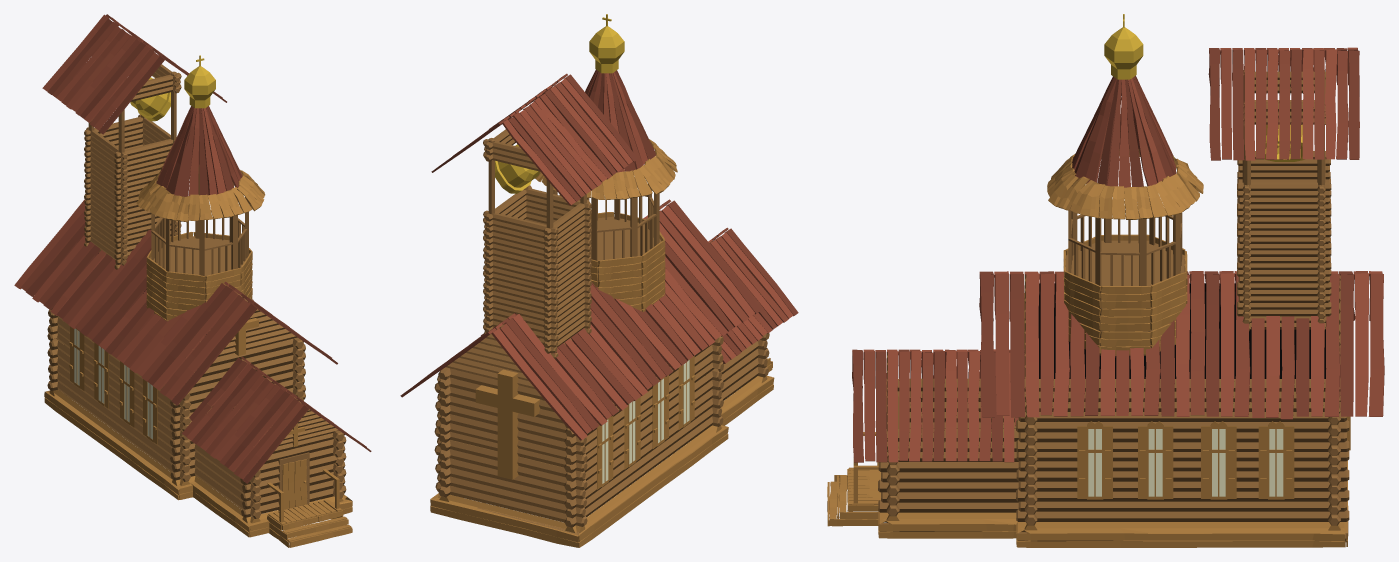
Rendered from Kirche.fbx.
3 views of the same model, side by side, from view 1: azimuth 30°, elevation 25°; view 2: azimuth 150°, elevation 25°; view 3: azimuth 270°, elevation 25° (orthographic). The views are drawn at different scales.
Visible parts, largest first — view 1: Kirche, Glockenrumpf; view 2: Kirche, Glockenrumpf; view 3: Kirche.
Part boxes in pixels (x1,y1,x2,y2): Kirche: [14, 14, 371, 547]; Glockenrumpf: [130, 77, 170, 121]; Kirche: [400, 14, 798, 547]; Glockenrumpf: [495, 144, 539, 193]; Kirche: [827, 14, 1384, 547].
Bounding box in the file's own units: 7.53 × 17.57 × 17.99.
